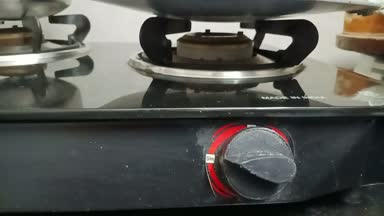noflame_gason: (156, 13, 307, 206)
